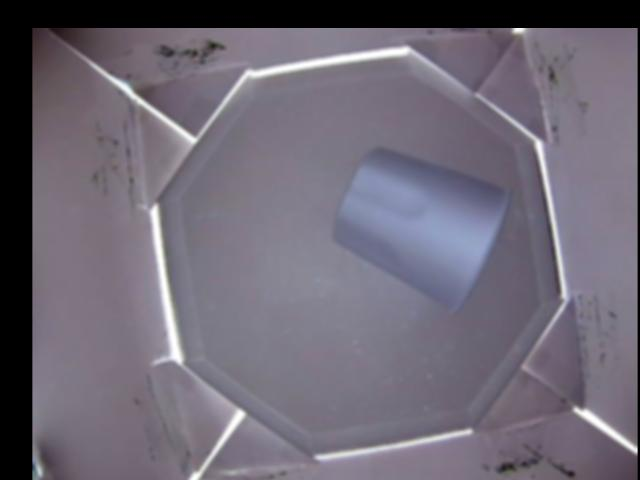Cup: (331, 146, 510, 312)
